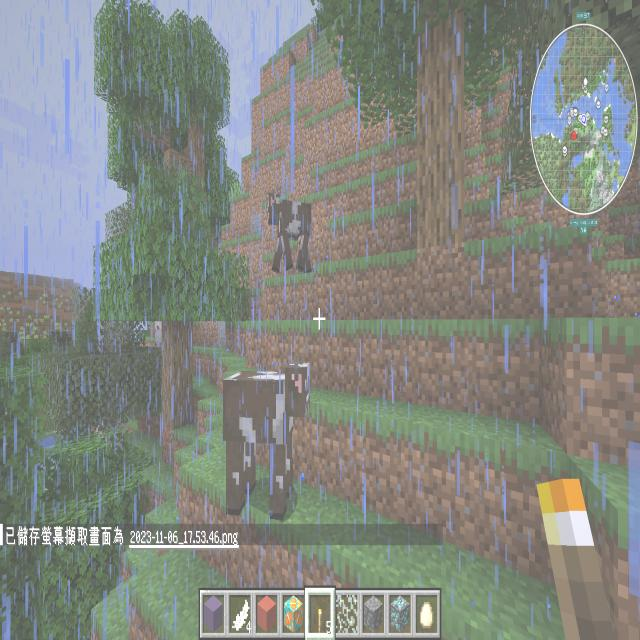cow: (212, 353, 316, 528), (260, 178, 322, 284)
